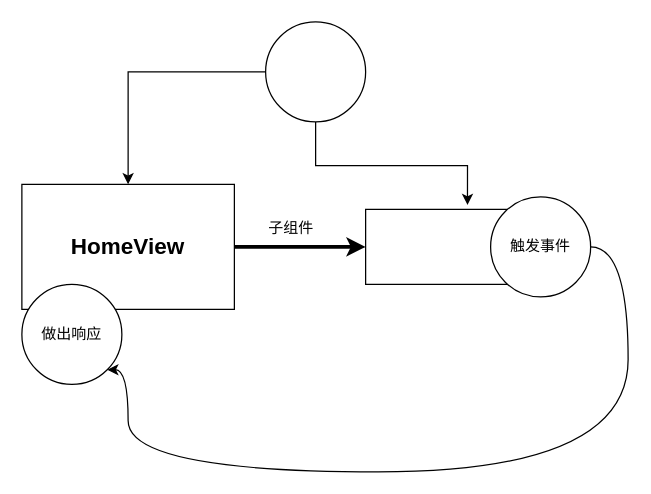
The diagram is 651 pixels wide and 494 high, and some of its shapes have lost their labels. Each missing label, with the box of its shape:
TheTop: (364, 208, 516, 284)
useToggle: (264, 21, 366, 122)
